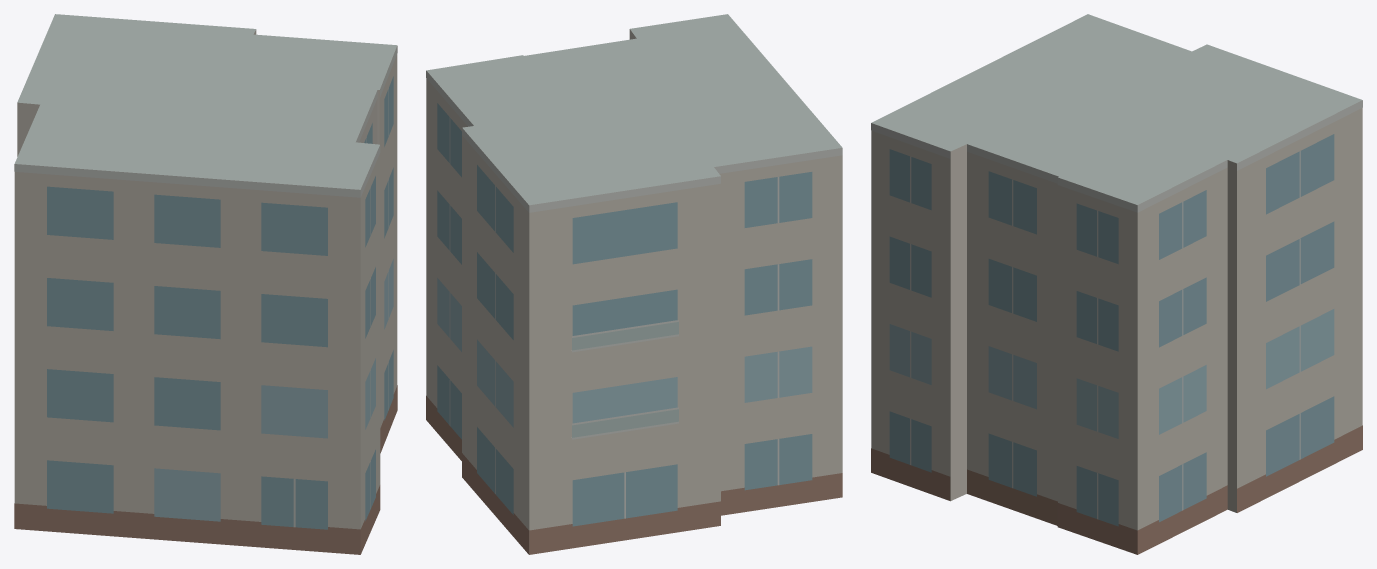
Rendered from survey-upis-32674930.glb.
The picture shows the model from 3 angles, left to right: view 1: azimuth 30°, elevation 25°; view 2: azimuth 150°, elevation 25°; view 3: azimuth 270°, elevation 25°; orthographic projection. The views are drawn at different scales.
Parts seen in each view (by area): view 1: survey-upis-32674930.tmp; view 2: survey-upis-32674930.tmp; view 3: survey-upis-32674930.tmp.
Boxes of the visible parts, x1,y1,x2,y2 form: survey-upis-32674930.tmp: (14, 14, 397, 554); survey-upis-32674930.tmp: (426, 14, 842, 554); survey-upis-32674930.tmp: (871, 14, 1362, 554).
Bounding box in the file's own units: 13.26 × 11.3 × 14.41.
